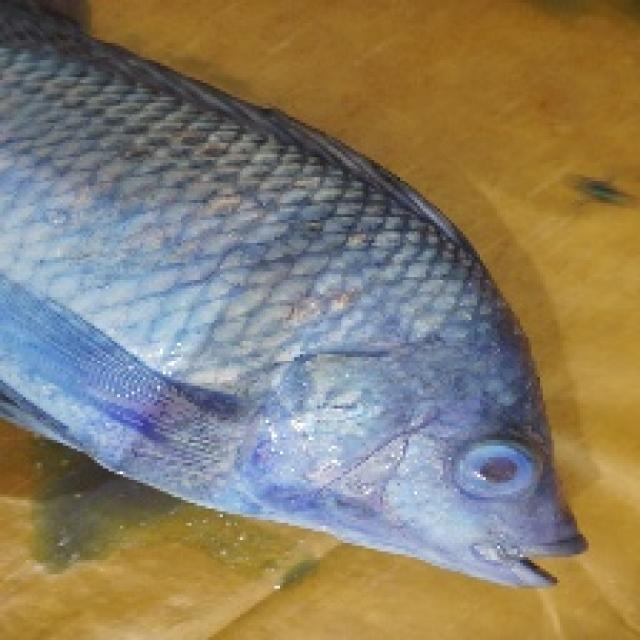Non-Fresh: (4, 20, 585, 593), (453, 430, 545, 512)
